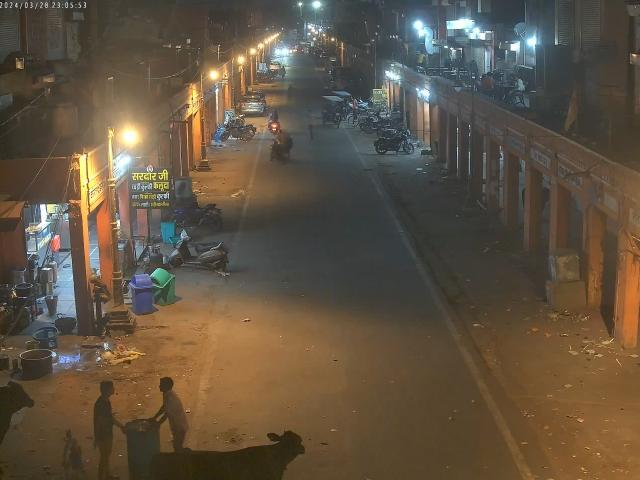cattle: (134, 424, 322, 480)
motorbike: (374, 132, 414, 156)
motorbike-rider: (269, 118, 295, 162)
scooty-rider: (170, 231, 232, 273)
